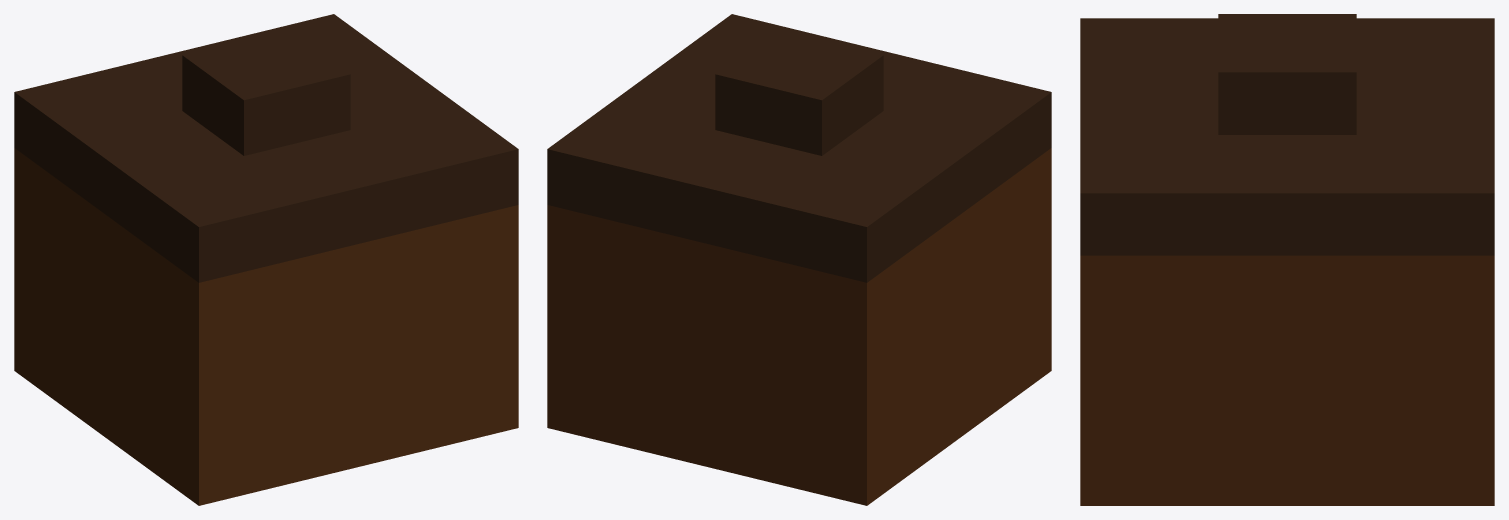
The model's file is stump.obj.
The picture shows the model from 3 angles, left to right: view 1: azimuth 30°, elevation 25°; view 2: azimuth 150°, elevation 25°; view 3: azimuth 270°, elevation 25°; orthographic projection. The views are drawn at different scales.
Bounding box in the file's own units: 0.6 × 0.6 × 0.6.
Materials: 1 (1 with a texture image).
